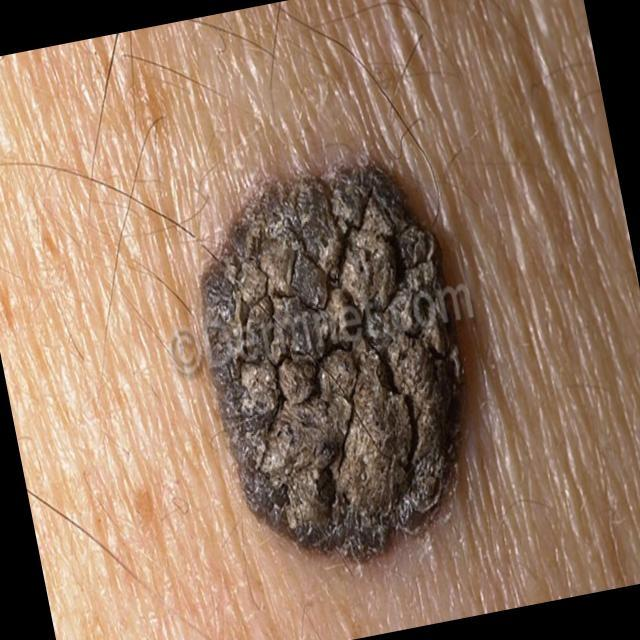Eczema: (176, 170, 464, 576)
